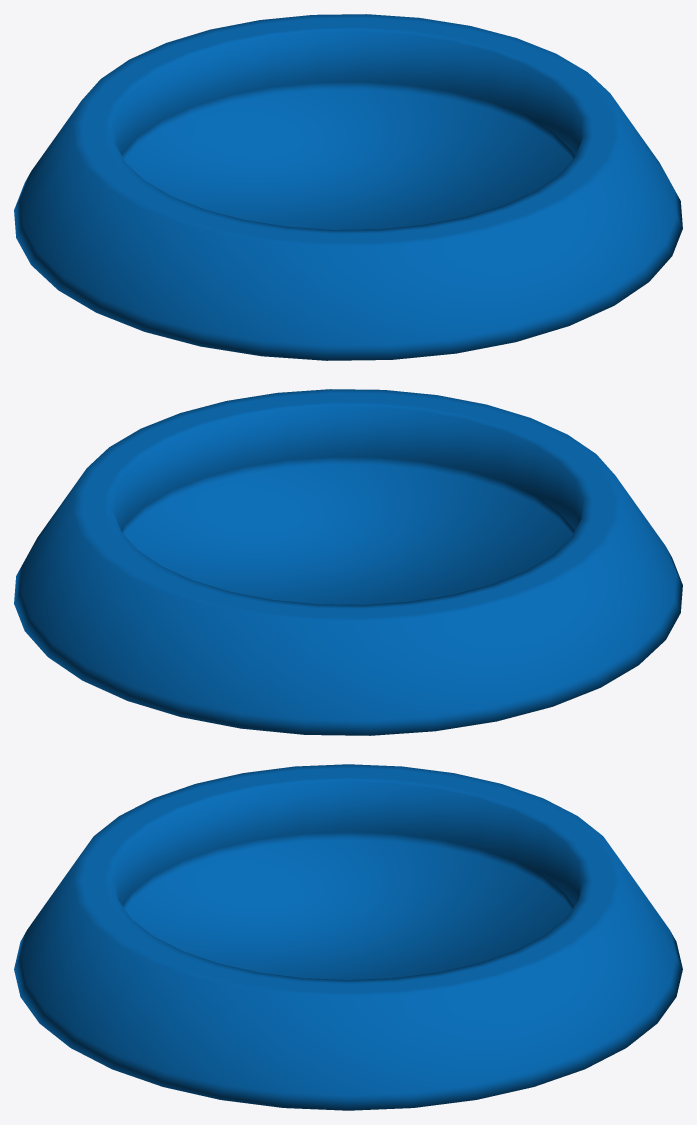
The model's file is DogBowl.fbx.
3 views of the same model, one above another, from view 1: azimuth 30°, elevation 25°; view 2: azimuth 150°, elevation 25°; view 3: azimuth 270°, elevation 25° (orthographic).
Parts seen in each view (by area): view 1: DogBowl; view 2: DogBowl; view 3: DogBowl.
Boxes of the visible parts, left/top/right/bottom form: DogBowl: left=14, top=14, right=682, bottom=360; DogBowl: left=14, top=389, right=682, bottom=735; DogBowl: left=14, top=764, right=682, bottom=1110.
Bounding box in the file's own units: 121 × 17.71 × 121.
1 material, 1 textured.
